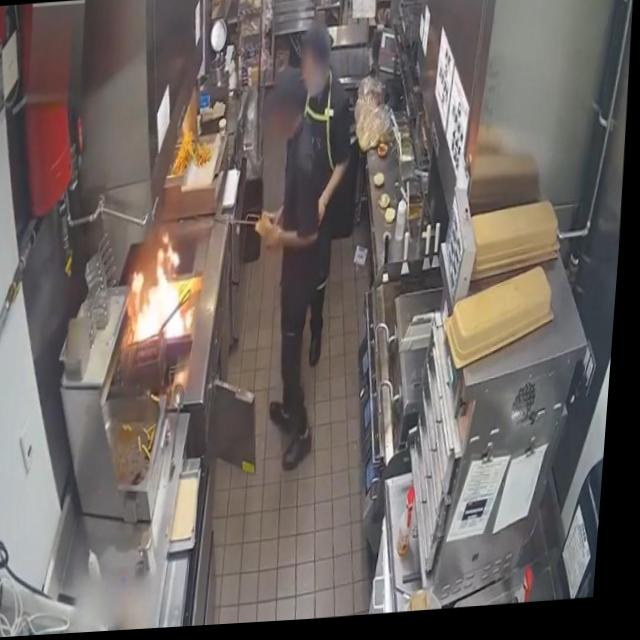fire: (128, 220, 202, 351)
